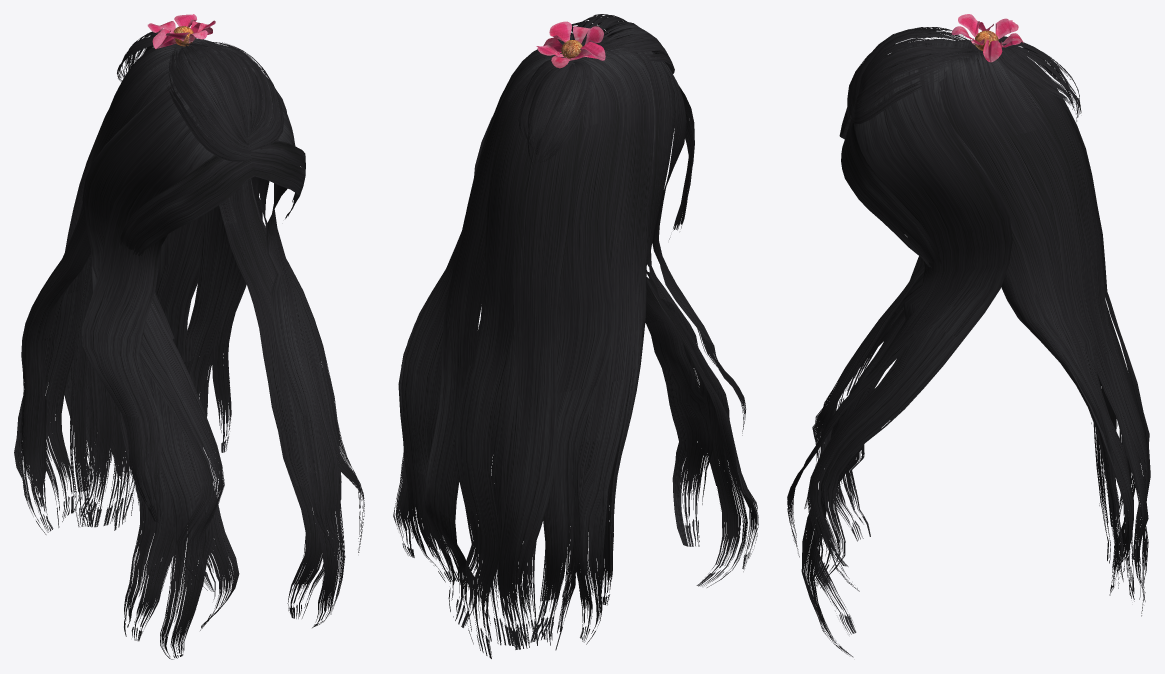
The model's file is mh_elvs_island_princess_hair.glb.
3 views of the same model, side by side, from view 1: azimuth 30°, elevation 25°; view 2: azimuth 150°, elevation 25°; view 3: azimuth 270°, elevation 25° (orthographic). The views are drawn at different scales.
Parts seen in each view (by area): view 1: mh_elvs_island_princess_hair; view 2: mh_elvs_island_princess_hair; view 3: mh_elvs_island_princess_hair.
Part boxes in pixels (x1,y1,x2,y2): mh_elvs_island_princess_hair: (14,14,364,659); mh_elvs_island_princess_hair: (393,14,758,658); mh_elvs_island_princess_hair: (787,14,1150,657).
Bounding box in the file's own units: 0.3014 × 0.691 × 0.3792.
1 material, 1 textured.
